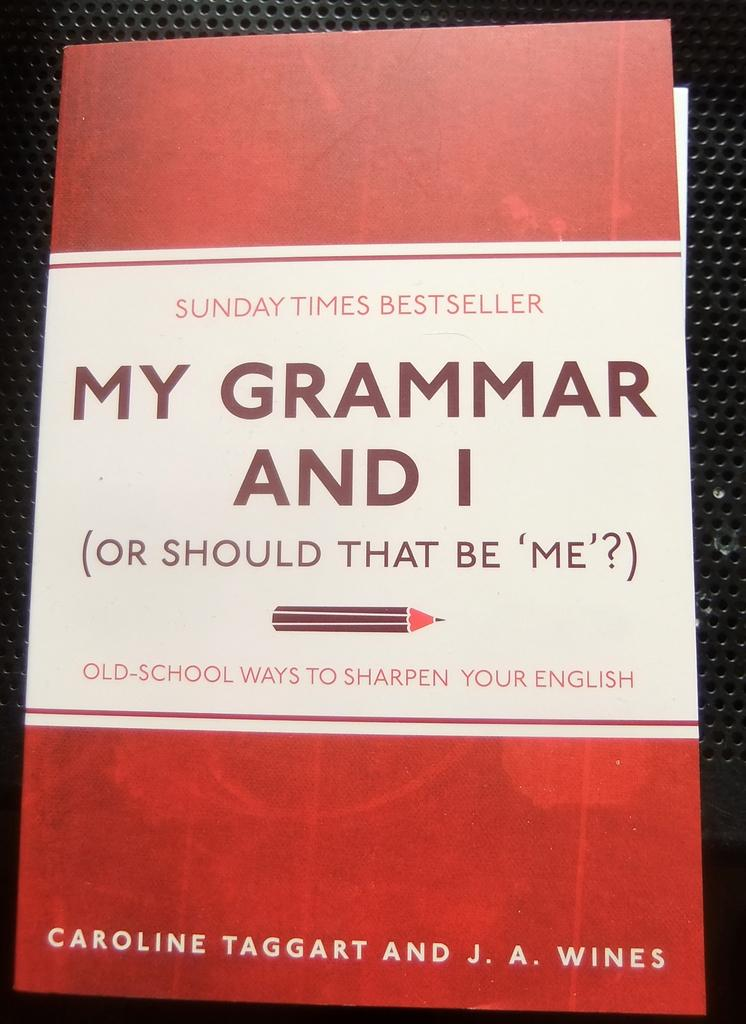book: (9, 12, 701, 1005)
